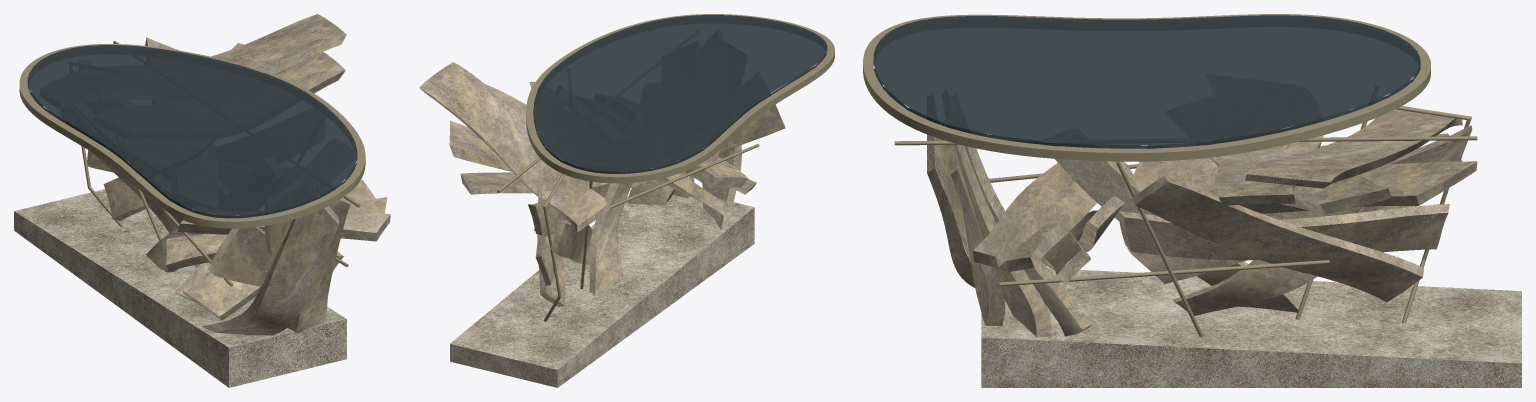
Rendered from BROWNSHARKTABLE-ROCK-v81.glb.
3 renders of one model, left to right at view 1: azimuth 30°, elevation 25°; view 2: azimuth 150°, elevation 25°; view 3: azimuth 270°, elevation 25°, orthographic. The views are drawn at different scales.
Parts seen in each view (by area): view 1: BROWNSHARKTABLE-ROCK; view 2: BROWNSHARKTABLE-ROCK; view 3: BROWNSHARKTABLE-ROCK.
Part boxes in pixels (x1,y1,x2,y2): BROWNSHARKTABLE-ROCK: [14, 14, 390, 387]; BROWNSHARKTABLE-ROCK: [419, 14, 834, 387]; BROWNSHARKTABLE-ROCK: [863, 14, 1521, 387].
Size of the model in its own units: 1.88 by 1.34 by 2.86.
4 materials, 2 textured.
